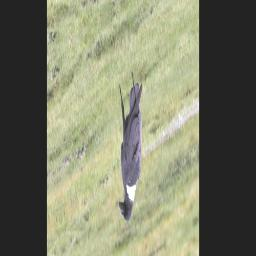Crow: (109, 67, 153, 228)
